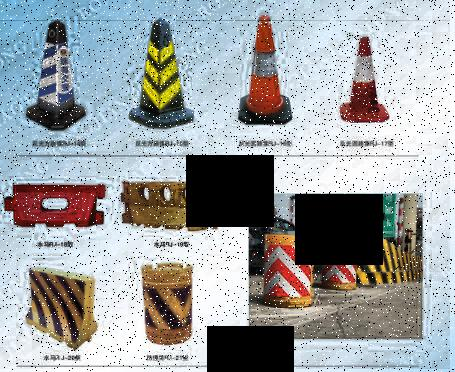bench: (130, 257, 203, 346), (256, 227, 319, 311)
camera: (233, 6, 300, 125), (130, 14, 194, 131), (330, 35, 399, 129)
